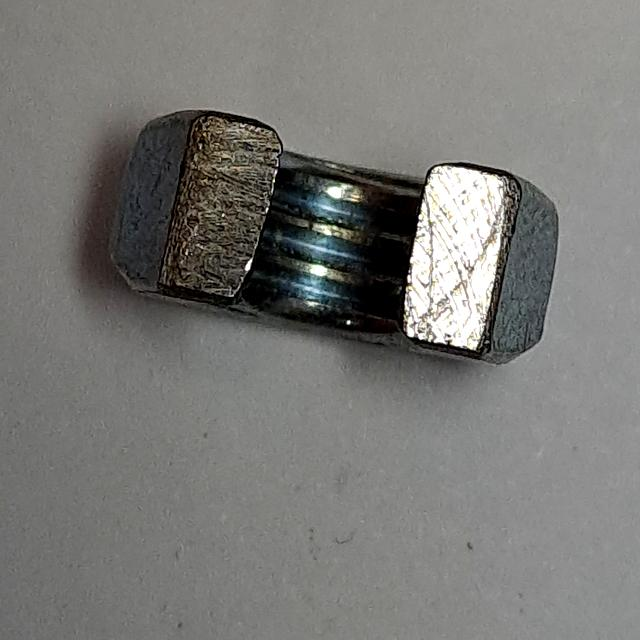Side-Fracture: (94, 98, 578, 383)
